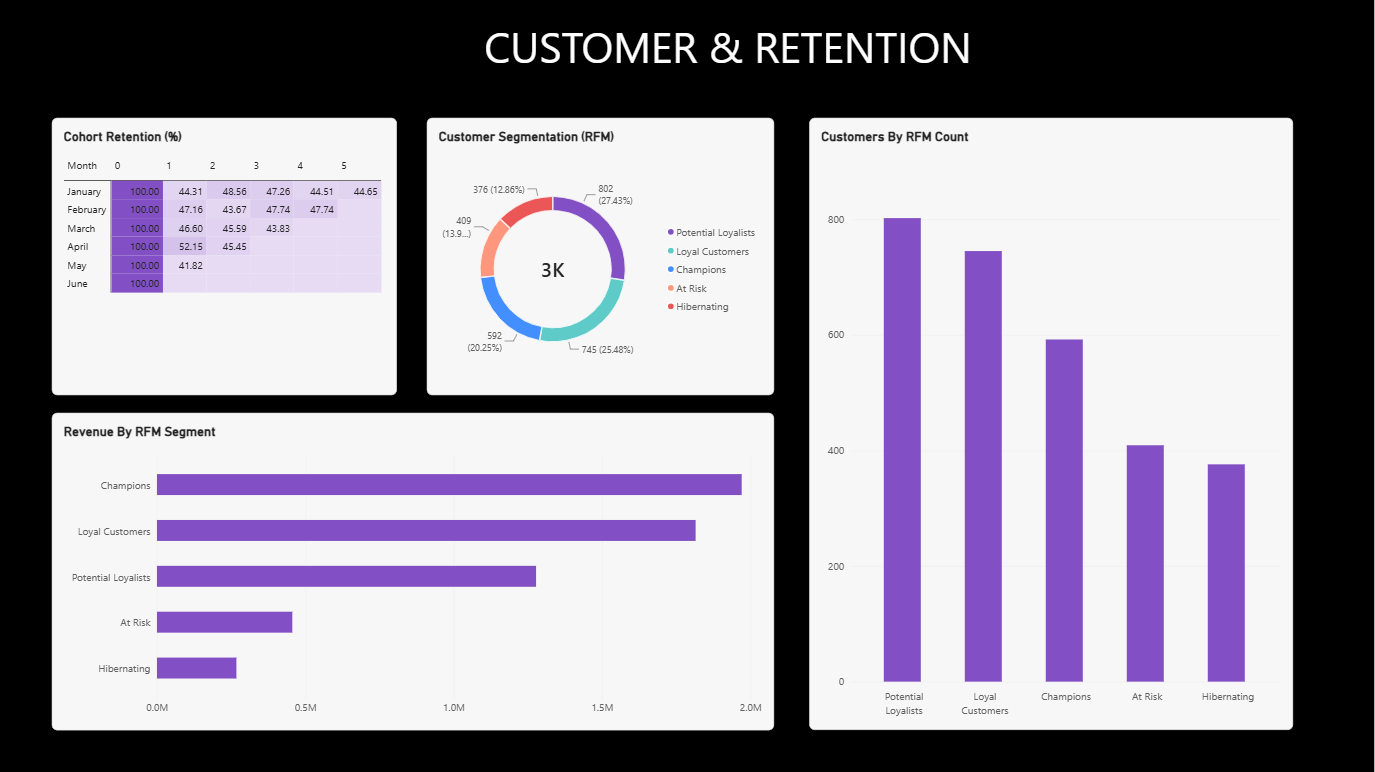

The page's visual inventory and layout, read from the dashboard file:
{"tool":"powerbi","page":{"name":"Page 2","canvas":[1920,1080],"ordinal":1},"visuals":[{"type":"textbox","box":[643.6,26.2,750,95.9],"z":0},{"type":"donutChart","title":"Customer Segmentation (RFM)","fields":{"Category":["rfm_segments.segment"],"Y":["Sum(rfm_segments.customers)"]},"box":[598.3,165.7,484.9,387.2],"z":1000},{"type":"clusteredBarChart","title":"Revenue By RFM Segment","fields":{"Category":["rfm_segments.segment"],"Y":["Sum(rfm_segments.total_revenue)"]},"box":[75,577.3,1008.1,443],"z":2000},{"type":"clusteredColumnChart","title":"Customers By RFM Count","fields":{"Category":["rfm_segments.segment"],"Y":["Sum(rfm_segments.customers)"]},"box":[1132,165.7,675,854.7],"z":3000},{"type":"pivotTable","title":"Cohort Retention (%)","fields":{"Columns":["cohort_retention_long.months_since_first_order"],"Rows":["cohort_retention_long.cohort_month.Variation.Date Hierarchy.Month"],"Values":["Sum(cohort_retention_long.retention_rate)"]},"box":[75,165.7,481.4,387.2],"z":4000}]}

Visuals, with their boxes in screenshot pixels (x1, y1, x2, y2), scaled from the page's 1920x1080 canvas onto the 1375x772 screenshot:
textbox: locate(461, 19, 998, 87)
"Customer Segmentation (RFM)" donutChart: locate(428, 118, 776, 395)
"Revenue By RFM Segment" clusteredBarChart: locate(54, 413, 776, 729)
"Customers By RFM Count" clusteredColumnChart: locate(811, 118, 1294, 729)
"Cohort Retention (%)" pivotTable: locate(54, 118, 398, 395)
